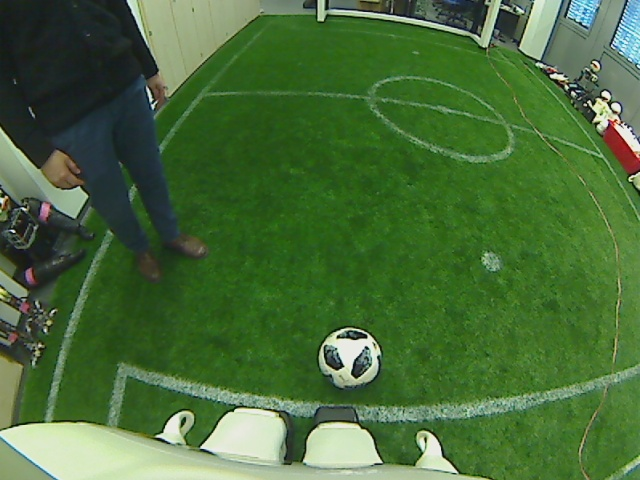ball: (317, 327, 381, 386)
